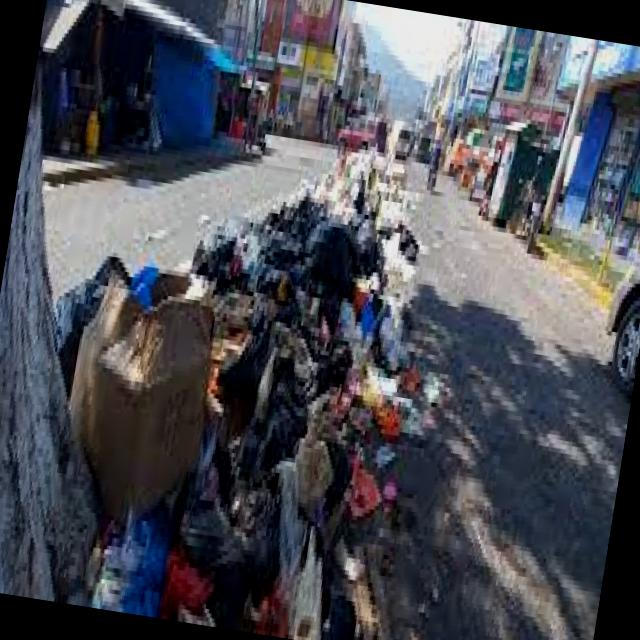garbage: (59, 170, 428, 640)
